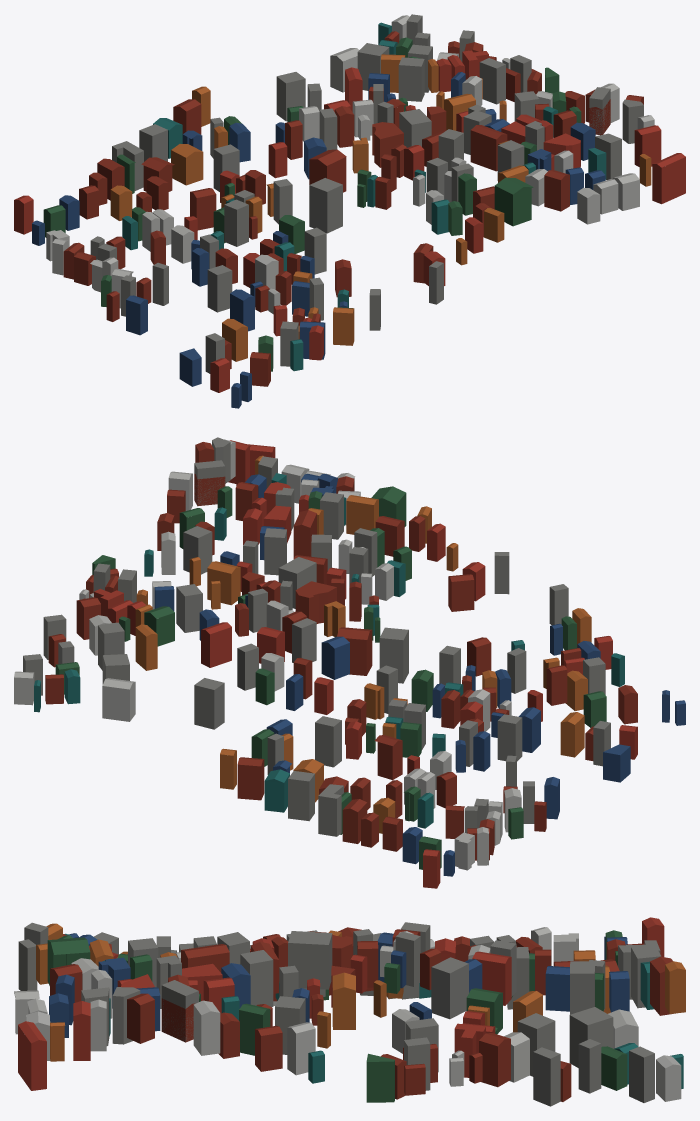
The model's file is near-17-109433-59476.ba7de21f.glb.
3 renders of one model, top to bottom at view 1: azimuth 30°, elevation 25°; view 2: azimuth 150°, elevation 25°; view 3: azimuth 270°, elevation 25°, orthographic. The views are drawn at different scales.
Bounding box in the file's own units: 298 × 128 × 300.
